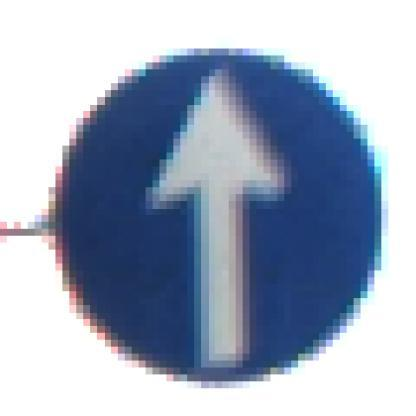straight: (27, 42, 388, 388)
